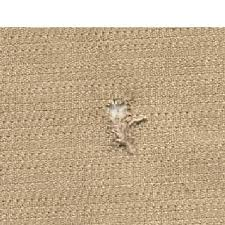Hole: (87, 88, 161, 154)
